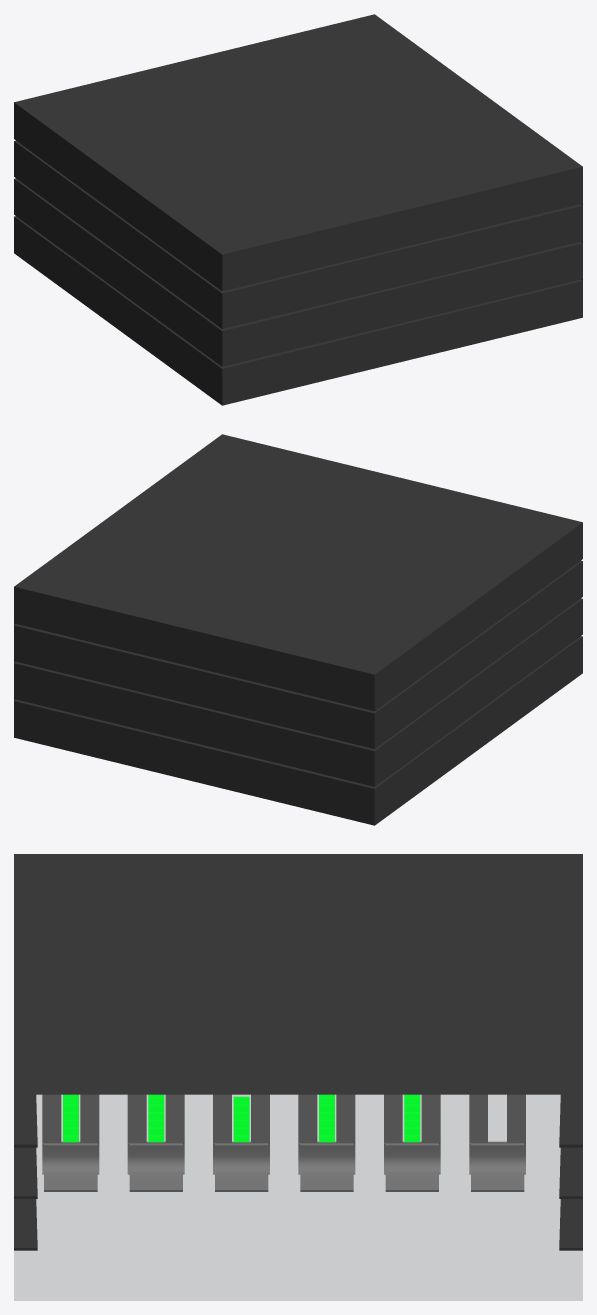
File: proficiency.glb
3 views of the same model, one above another, from view 1: azimuth 30°, elevation 25°; view 2: azimuth 150°, elevation 25°; view 3: azimuth 270°, elevation 25° (orthographic). The views are drawn at different scales.
Parts seen in each view (by area): view 1: Plane.001; view 2: Plane.001; view 3: Plane.001, Plane, Plane.002, Plane.004, Plane.005, Plane.006, Plane.003, Cube.001, Cube.004, Cube.002, Cube, Cube.003.
Boxes of the visible parts, x1=… form: Plane.001: x1=14, y1=14, x2=582, y2=405; Plane.001: x1=14, y1=434, x2=582, y2=825; Plane.001: x1=14, y1=854, x2=582, y2=1300; Plane: x1=42, y1=1094, x2=99, y2=1191; Plane.002: x1=127, y1=1094, x2=184, y2=1191; Plane.004: x1=298, y1=1094, x2=355, y2=1191; Plane.005: x1=384, y1=1094, x2=440, y2=1191; Plane.006: x1=469, y1=1094, x2=525, y2=1191; Plane.003: x1=213, y1=1094, x2=269, y2=1191; Cube.001: x1=148, y1=1094, x2=164, y2=1142; Cube.004: x1=404, y1=1094, x2=420, y2=1142; Cube.002: x1=233, y1=1096, x2=249, y2=1142; Cube: x1=63, y1=1094, x2=78, y2=1142; Cube.003: x1=319, y1=1094, x2=334, y2=1142.
Bounding box in the file's own units: 20 × 8 × 20.
